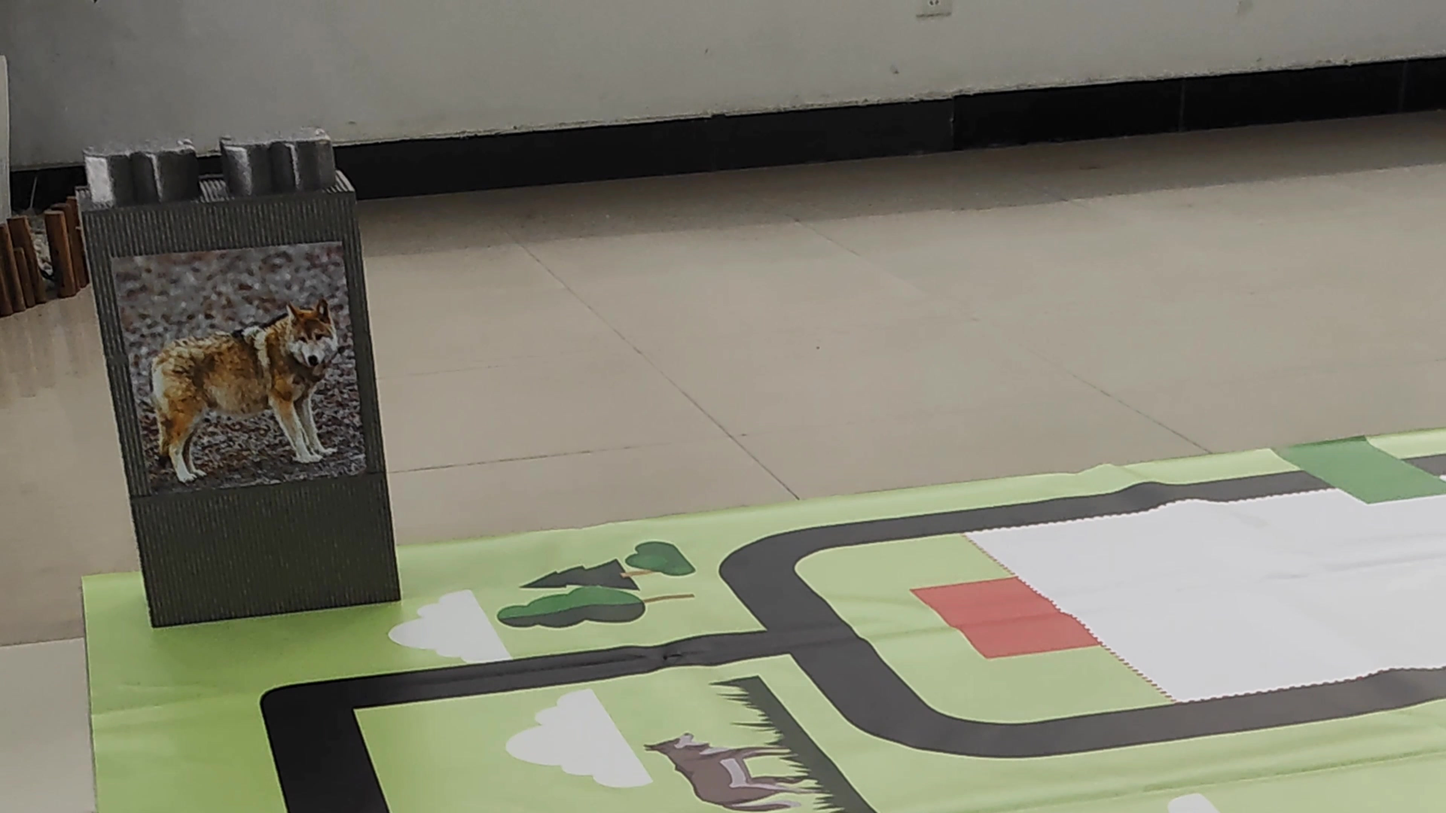wolf: (141, 291, 347, 483)
